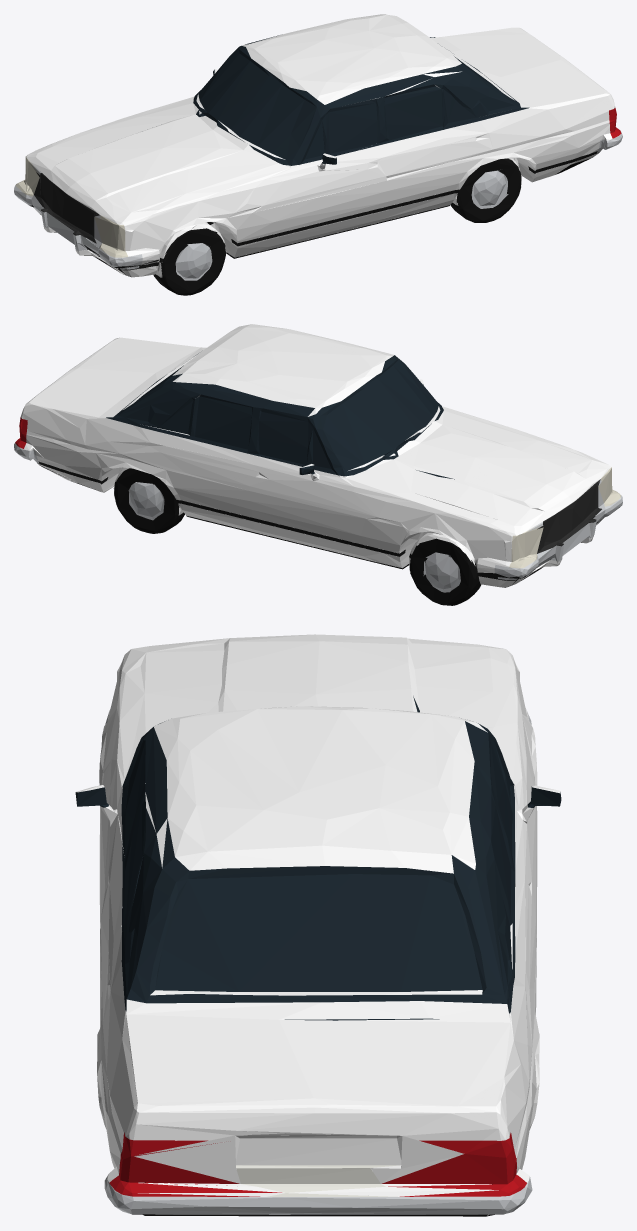
Rendered from sedan.glb.
3 views of the same model, one above another, from view 1: azimuth 30°, elevation 25°; view 2: azimuth 150°, elevation 25°; view 3: azimuth 270°, elevation 25° (orthographic). The views are drawn at different scales.
Parts seen in each view (by area): view 1: body, detail; view 2: body, detail; view 3: body, detail.
Part boxes in pixels (x1,y1,x2,y2): body: (26, 14, 615, 277); detail: (14, 35, 622, 295); body: (20, 324, 610, 587); detail: (14, 353, 622, 605); body: (76, 634, 560, 1215); detail: (75, 696, 561, 1216).
Size of the model in its own units: 2.65 by 0.7817 by 1.08.
